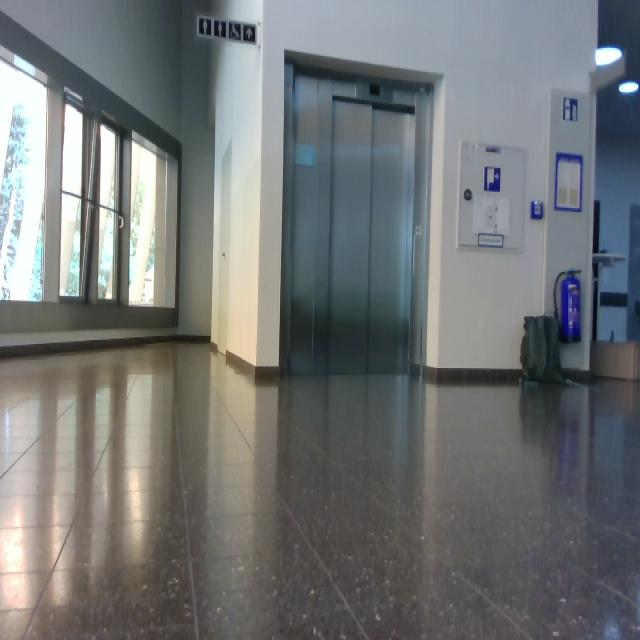door: (281, 63, 433, 376)
fire extinguisher: (553, 268, 581, 343)
light bulb: (594, 45, 621, 67), (617, 80, 638, 93)
tiled floor: (1, 338, 638, 638)
window: (0, 33, 181, 330), (0, 46, 47, 302)
